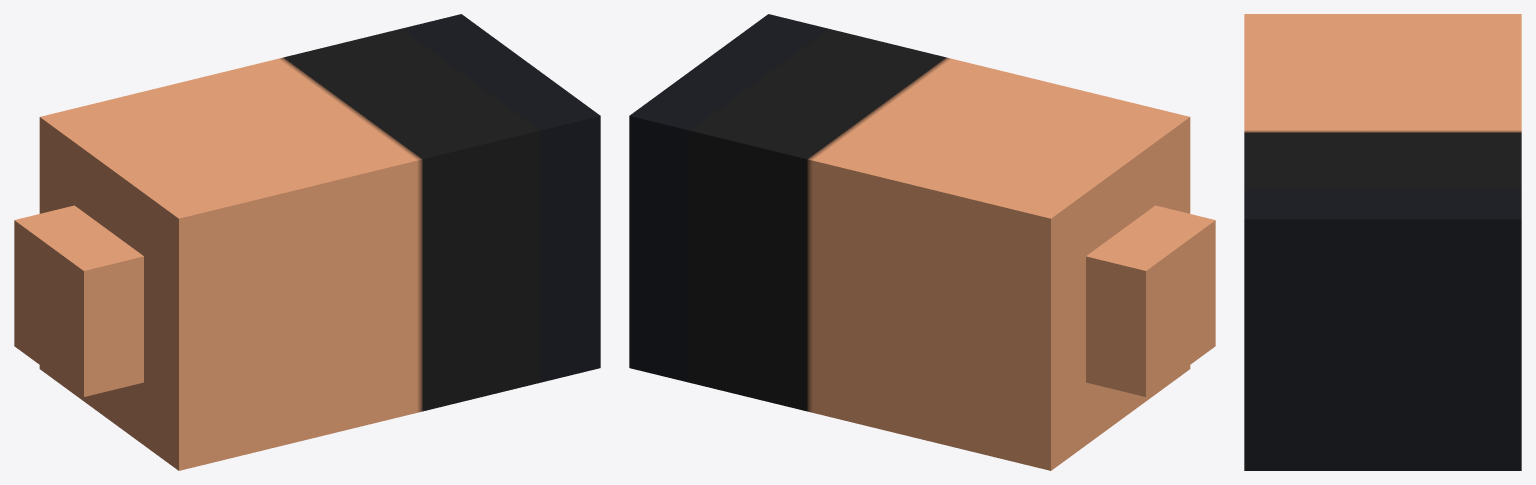
File: Shoulder067.fbx
The picture shows the model from 3 angles, left to right: view 1: azimuth 30°, elevation 25°; view 2: azimuth 150°, elevation 25°; view 3: azimuth 270°, elevation 25°; orthographic projection.
Visible parts, largest first — view 1: Shoulder067; view 2: Shoulder067; view 3: Shoulder067.
Part boxes in pixels (<box>): Shoulder067: <box>14,14,600,470</box>; Shoulder067: <box>629,14,1215,470</box>; Shoulder067: <box>1244,14,1521,470</box>.
Bounding box in the file's own units: 8 × 4 × 4.
